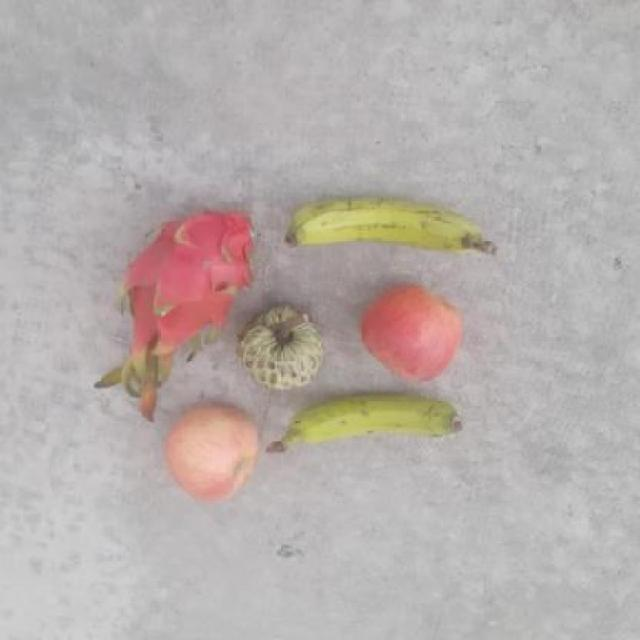apple: (350, 268, 468, 384), (155, 397, 267, 508)
banana: (282, 182, 490, 264), (270, 387, 465, 462)
dragon fruit: (118, 203, 274, 349)
sugar apple: (228, 301, 330, 402)
